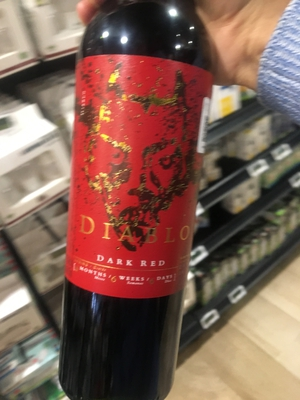diablo dark red: (63, 18, 256, 365)
